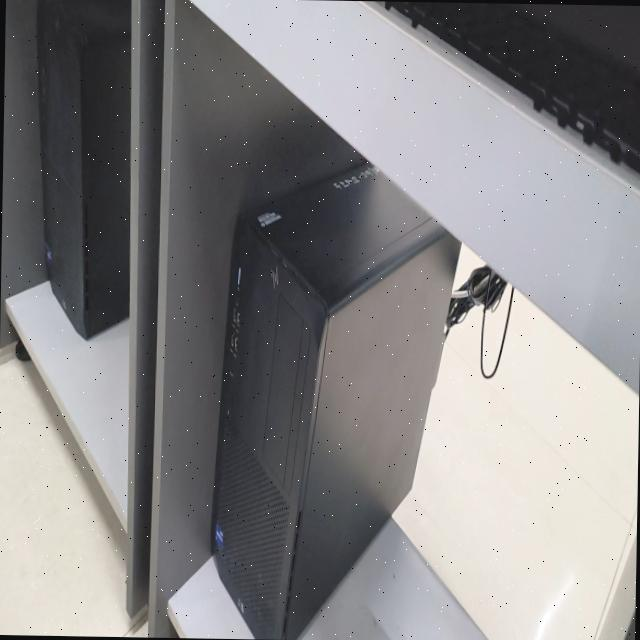Cpu: (212, 162, 459, 639), (37, 0, 131, 339)
Keyboard: (380, 1, 640, 173)
